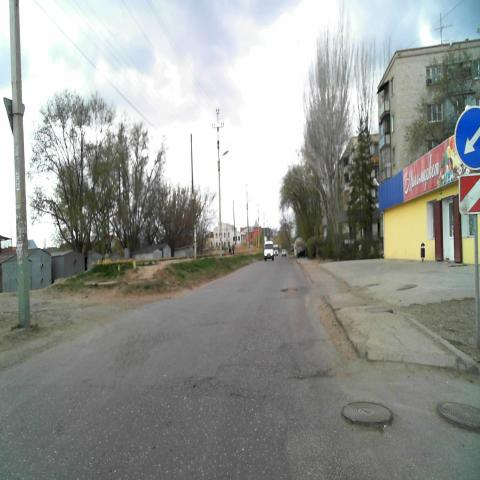4_2_2: (452, 102, 480, 171)
